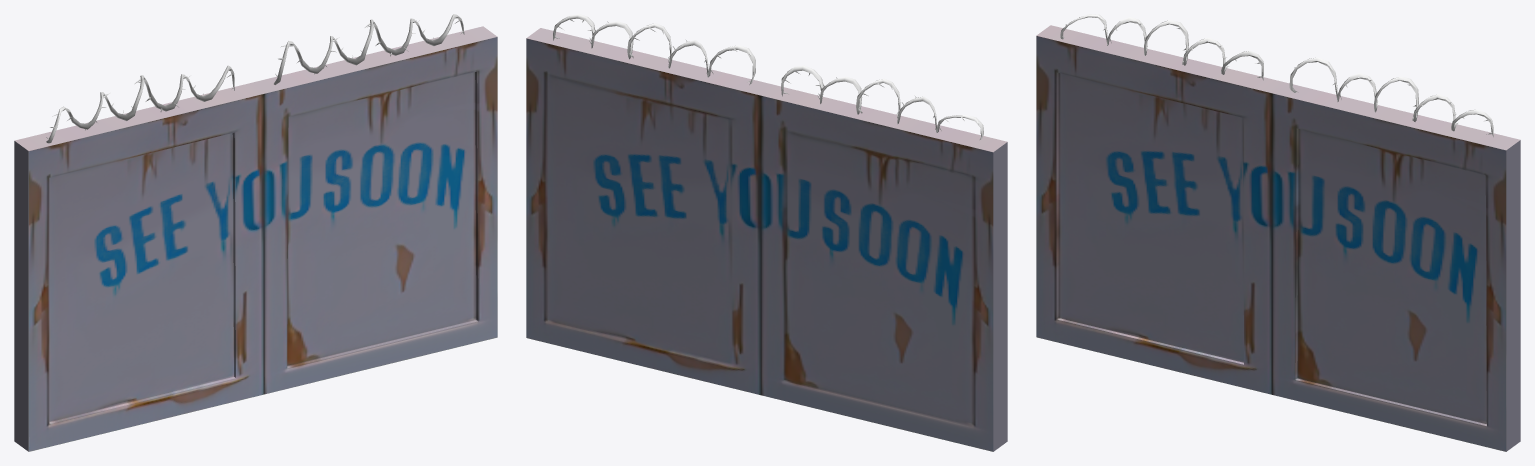
Rendered from Freedom_Door_Mexican.fbx.
The picture shows the model from 3 angles, left to right: view 1: azimuth 30°, elevation 25°; view 2: azimuth 150°, elevation 25°; view 3: azimuth 330°, elevation 25°; orthographic projection.
Visible parts, largest first — view 1: Freedom_Doors_Left_Mexican, Freedom_Doors_Right_Mexican; view 2: Freedom_Doors_Left_Mexican, Freedom_Doors_Right_Mexican; view 3: Freedom_Doors_Right_Mexican, Freedom_Doors_Left_Mexican.
Part boxes in pixels (x1=…): Freedom_Doors_Left_Mexican: x1=14, y1=65, x2=263, y2=451; Freedom_Doors_Right_Mexican: x1=249, y1=14, x2=497, y2=394; Freedom_Doors_Left_Mexican: x1=759, y1=65, x2=1007, y2=451; Freedom_Doors_Right_Mexican: x1=526, y1=14, x2=773, y2=394; Freedom_Doors_Right_Mexican: x1=1271, y1=57, x2=1520, y2=451; Freedom_Doors_Left_Mexican: x1=1036, y1=14, x2=1285, y2=394.
Bounding box in the file's own units: 149 × 103 × 10.89.
